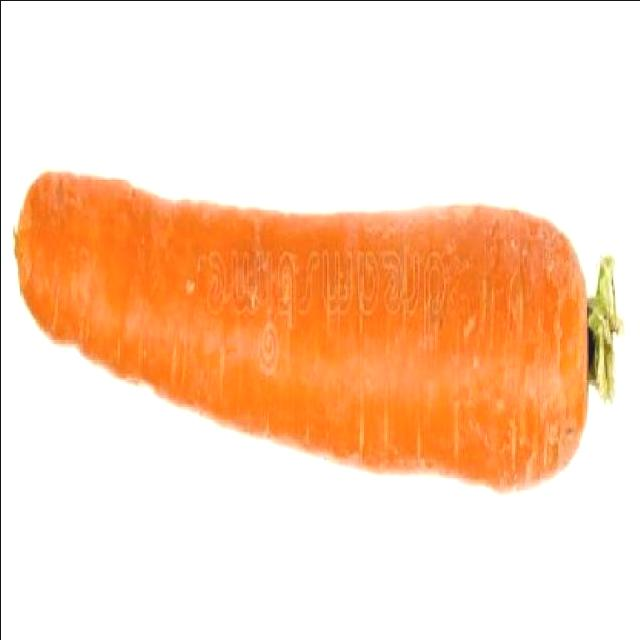carrot: (15, 163, 615, 499)
